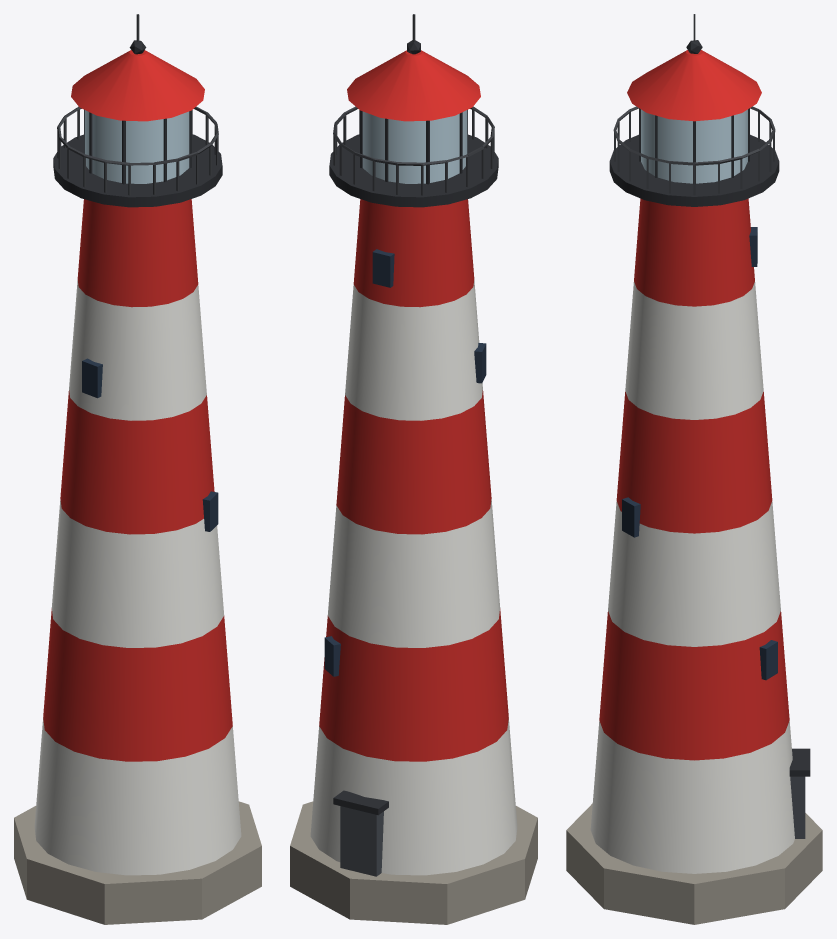
The model's file is lighthouse.glb.
3 views of the same model, side by side, from view 1: azimuth 30°, elevation 25°; view 2: azimuth 150°, elevation 25°; view 3: azimuth 270°, elevation 25° (orthographic).
Visible parts, largest first — view 1: lighthouse__Body; view 2: lighthouse__Body; view 3: lighthouse__Body.
Boxes of the visible parts, <box> form: lighthouse__Body: <box>14,14,261,924</box>; lighthouse__Body: <box>290,14,537,924</box>; lighthouse__Body: <box>566,14,822,924</box>.
Size of the model in its own units: 7.4 by 27.3 by 7.4.
